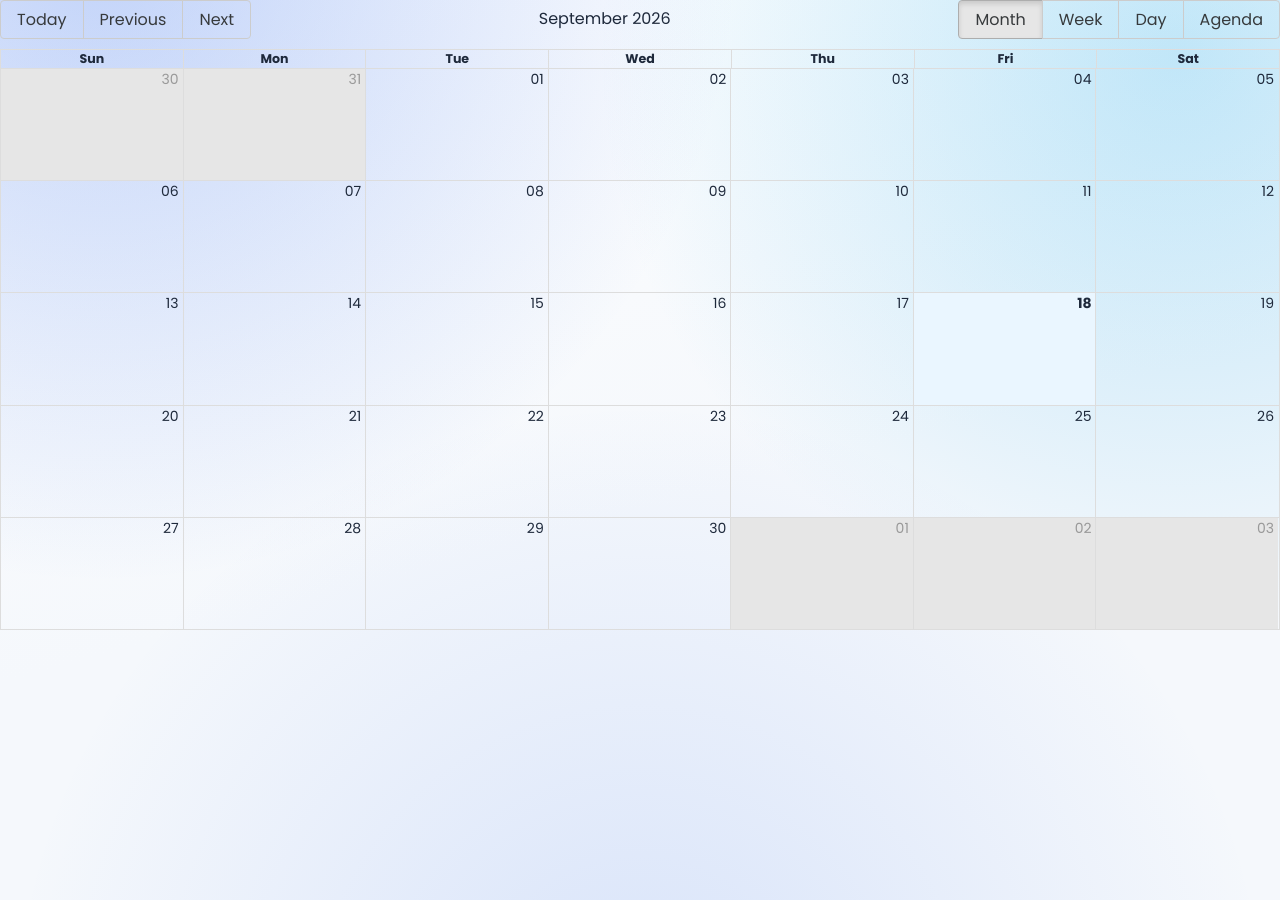
Test: shared controls in en › localizes the calendar agenda and its empty state
The image size is (1280, 900).
Click the button "Agenda".
click(1231, 20)  # box [1183,0,1279,39]
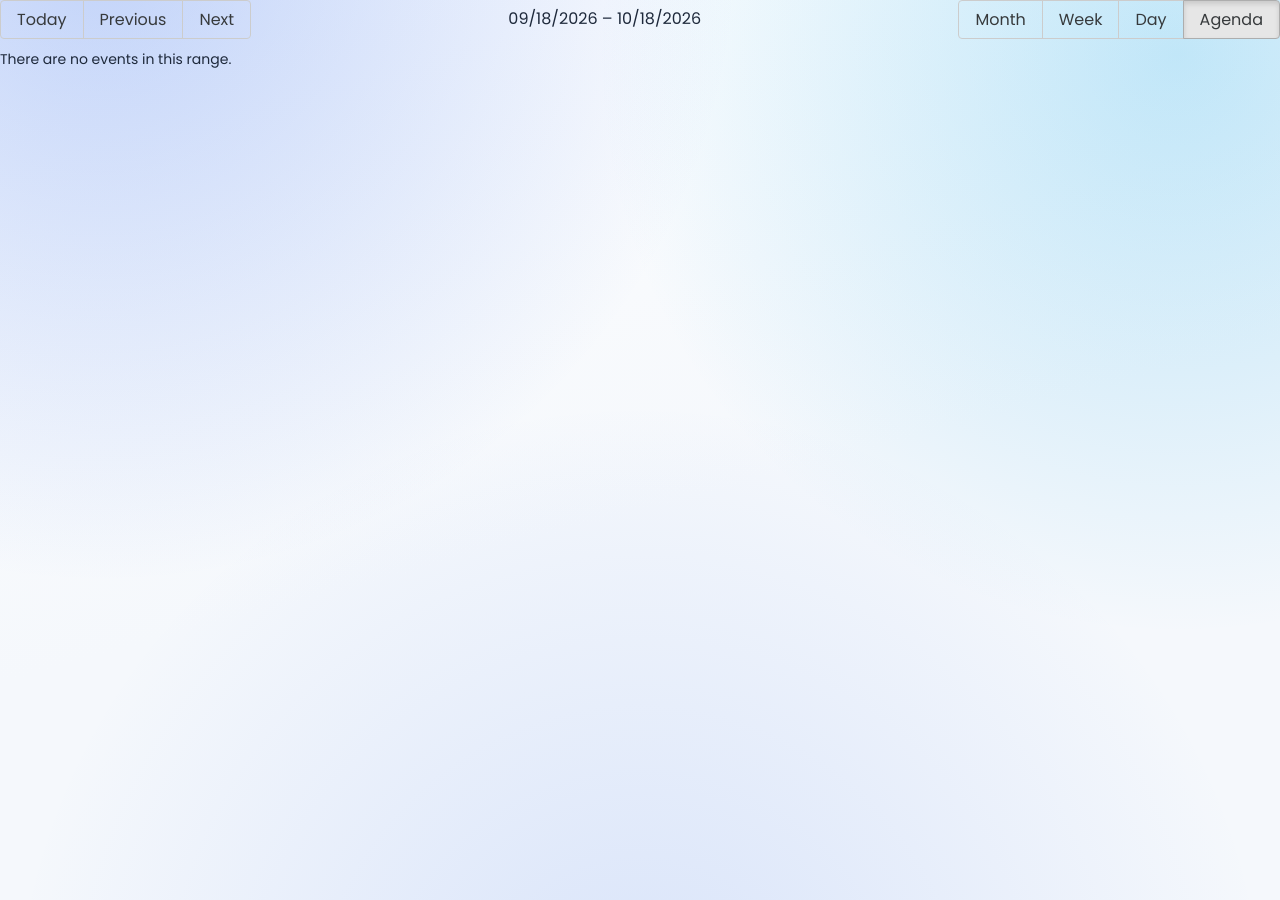
expect the text "There are no events in this range." is shown: met, box [0,49,231,69]
